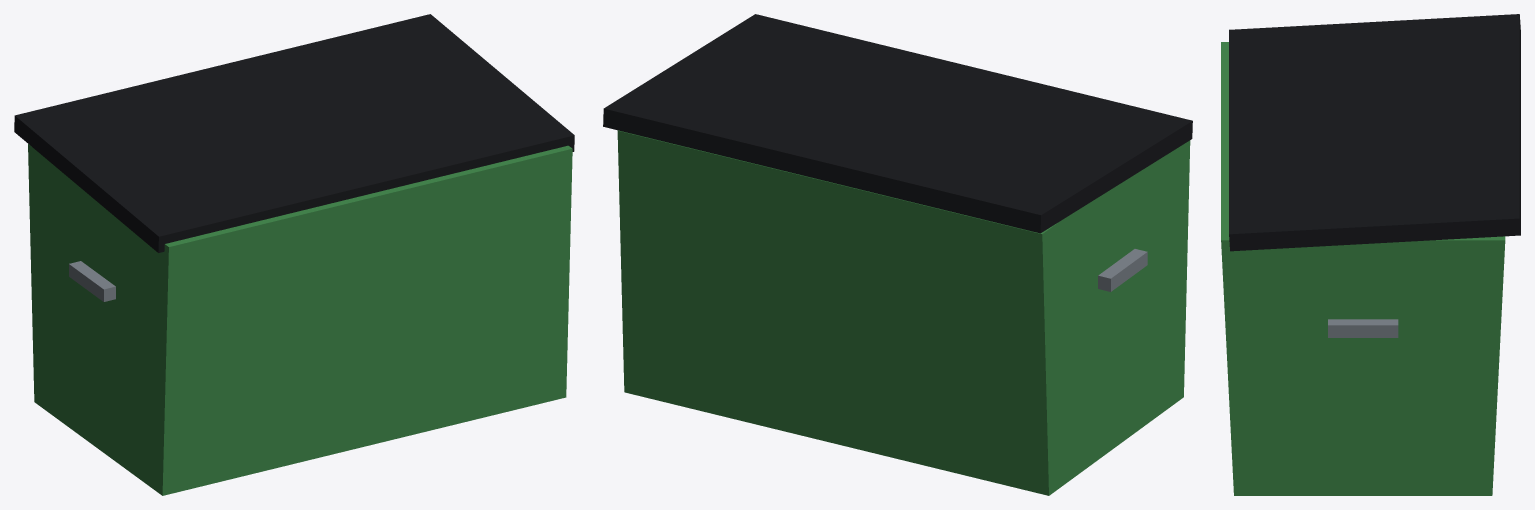
The model's file is dumpster.glb.
3 renders of one model, left to right at view 1: azimuth 30°, elevation 25°; view 2: azimuth 150°, elevation 25°; view 3: azimuth 270°, elevation 25°, orthographic. The views are drawn at different scales.
Parts seen in each view (by area): view 1: dumpster_Body; view 2: dumpster_Body; view 3: dumpster_Body.
Part boxes in pixels (left/top/right/bottom): dumpster_Body: left=14, top=14, right=574, bottom=495; dumpster_Body: left=603, top=14, right=1192, bottom=495; dumpster_Body: left=1221, top=14, right=1520, bottom=495.
Bounding box in the file's own units: 2.12 × 1.32 × 1.28.
